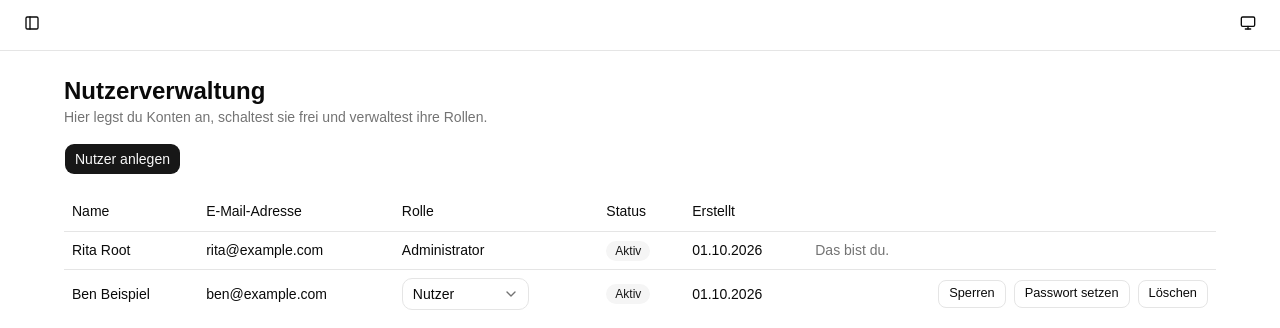
it: AdminUsersPage: change an account › disables and enables an account
This screenshot has width=1280, height=328.
Expected: the heading "Nutzerverwaltung" is shown, top-left (64, 77), bottom-right (265, 104)
Click the button with aria-label "Ben Beispiel sperren": (972, 294) top-left (938, 280), bottom-right (1006, 308)
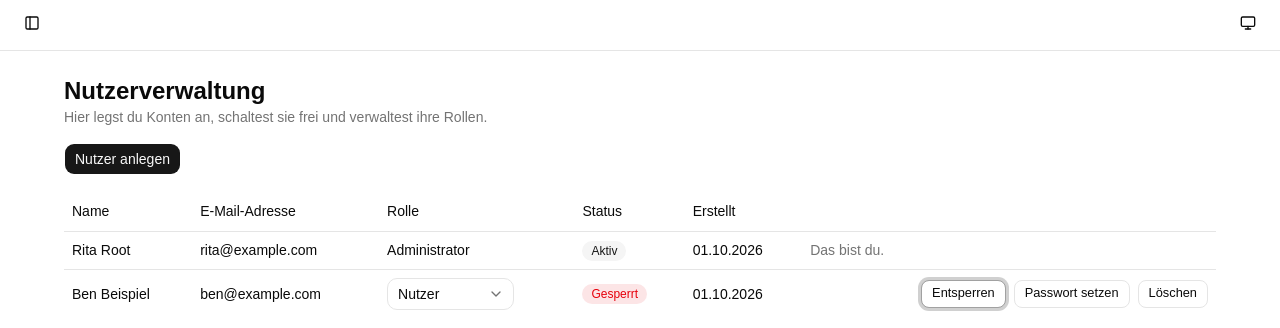
Click the button with aria-label "Ben Beispiel entsperren": (963, 294) top-left (921, 280), bottom-right (1006, 308)
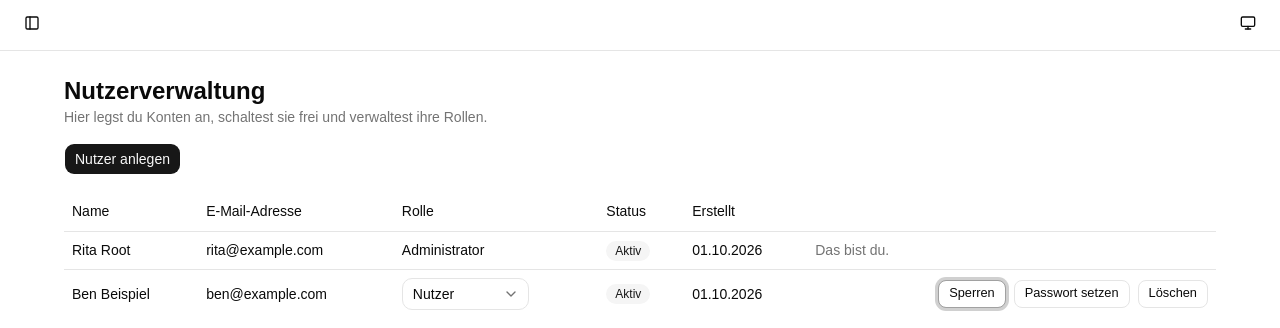
Now the button with aria-label "Ben Beispiel sperren" is shown, box top-left (938, 280), bottom-right (1006, 308)
